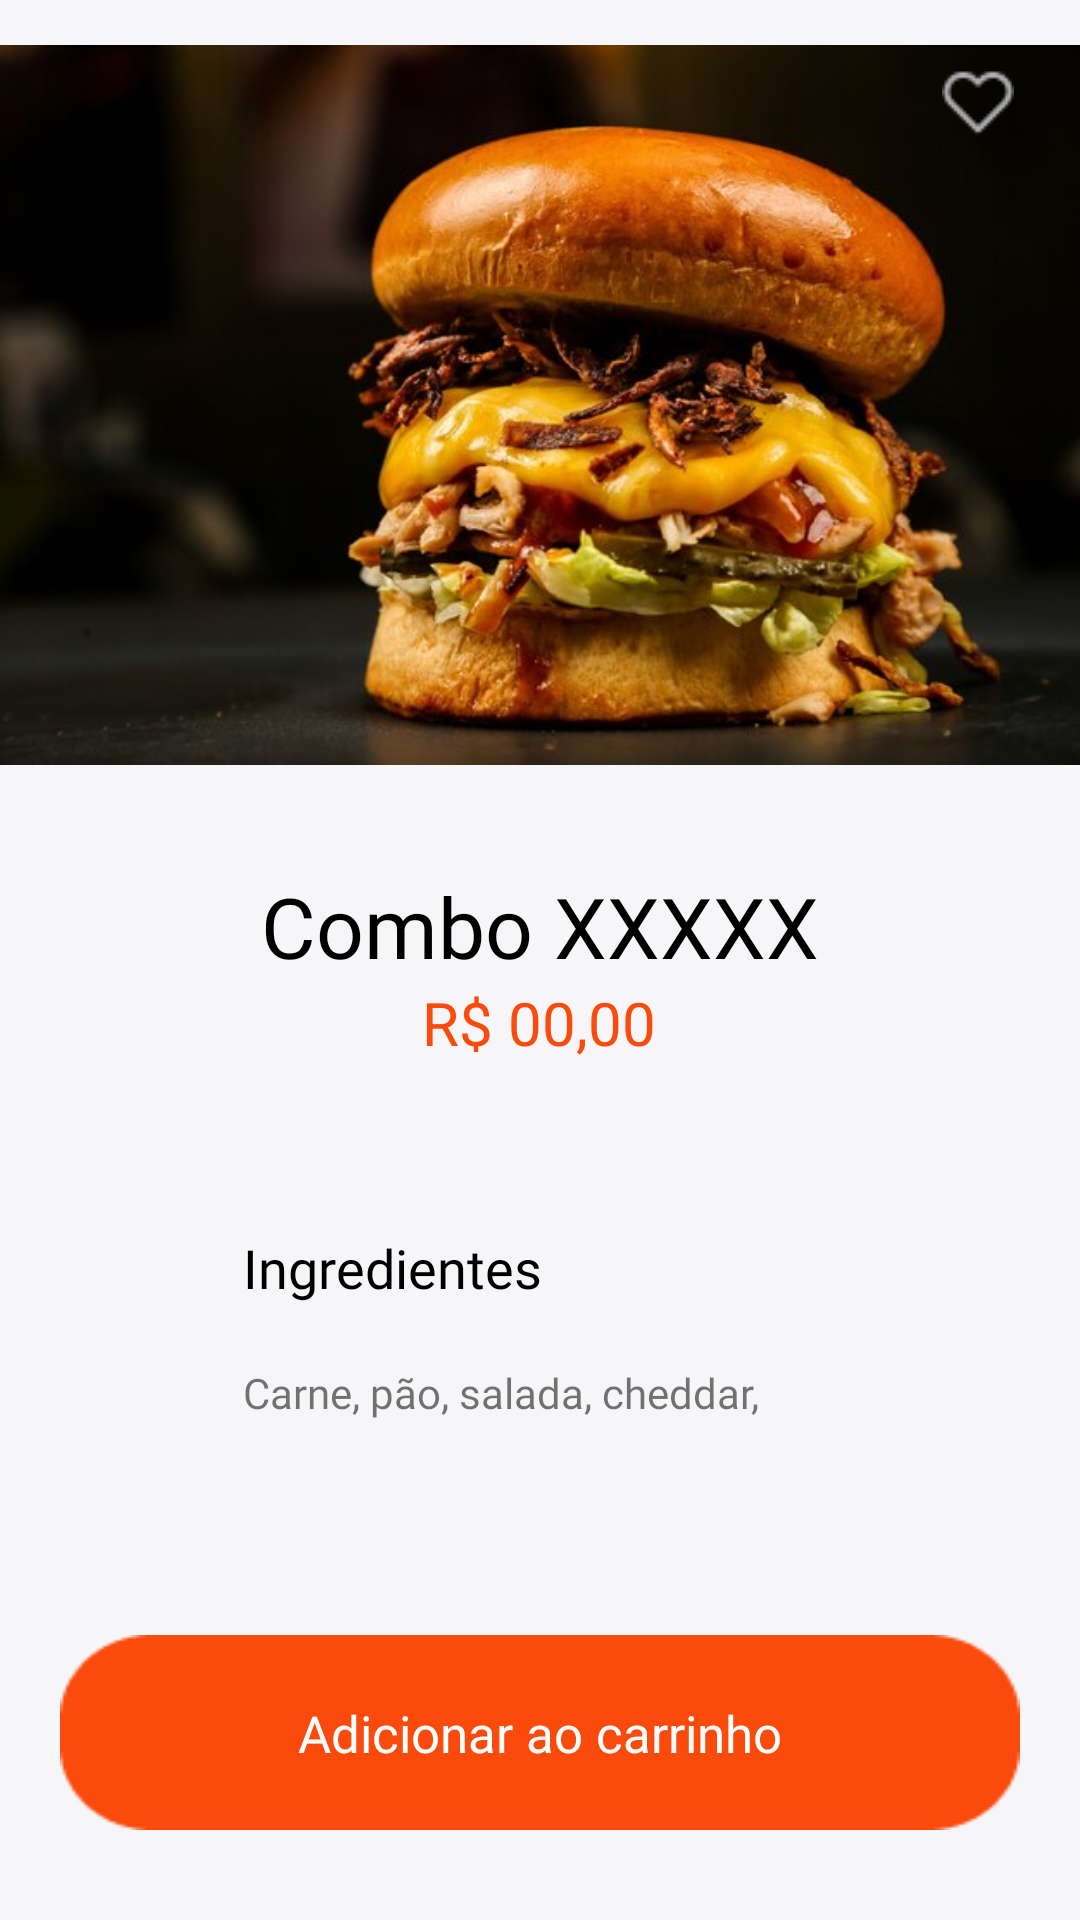

Point at icon controls on the screen. Image size 1080×1920, points as point (x, y).
heart: point (978, 81)
